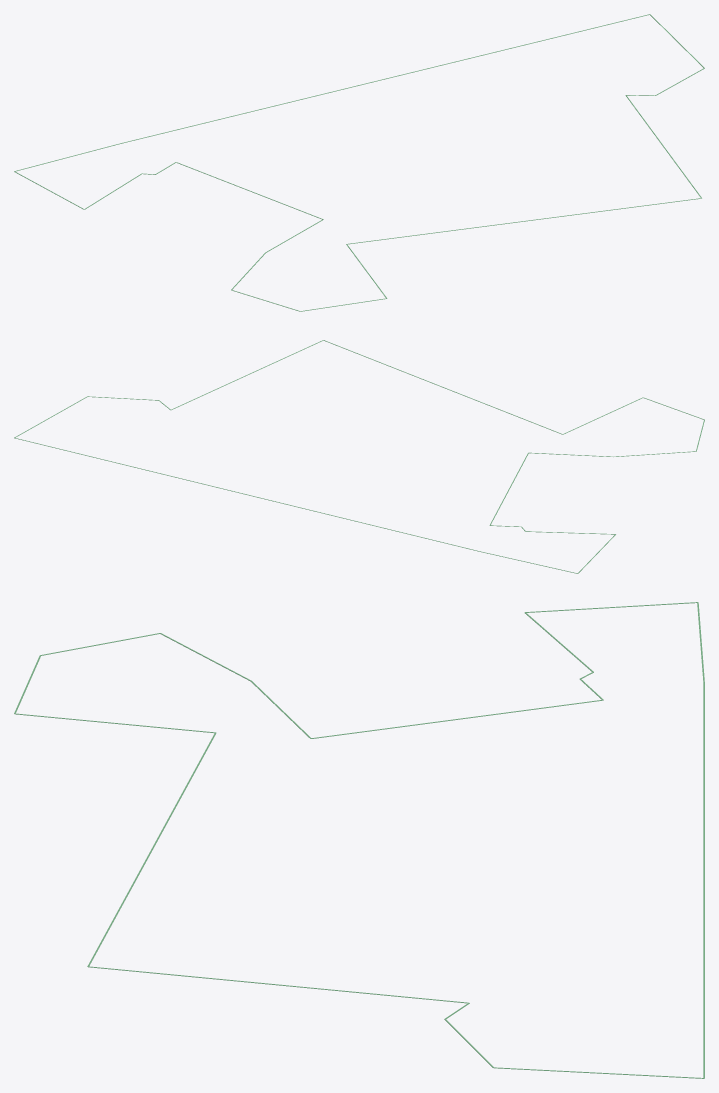
The model's file is delhi-zoo.glb.
3 views of the same model, one above another, from view 1: azimuth 30°, elevation 25°; view 2: azimuth 150°, elevation 25°; view 3: azimuth 270°, elevation 25° (orthographic). The views are drawn at different scales.
Parts seen in each view (by area): view 1: NCR_delhi-zoo; view 2: NCR_delhi-zoo; view 3: NCR_delhi-zoo.
Part boxes in pixels (left/top/right/bottom): NCR_delhi-zoo: left=14, top=14, right=704, bottom=311; NCR_delhi-zoo: left=14, top=340, right=704, bottom=573; NCR_delhi-zoo: left=14, top=602, right=704, bottom=1078.
Size of the model in its own units: 1445 by 0.4 by 886.
